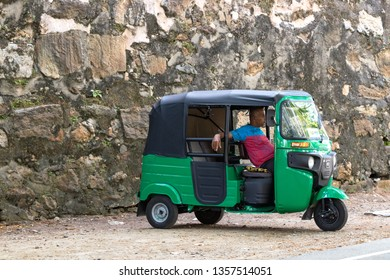threewheel: (134, 88, 348, 231)
